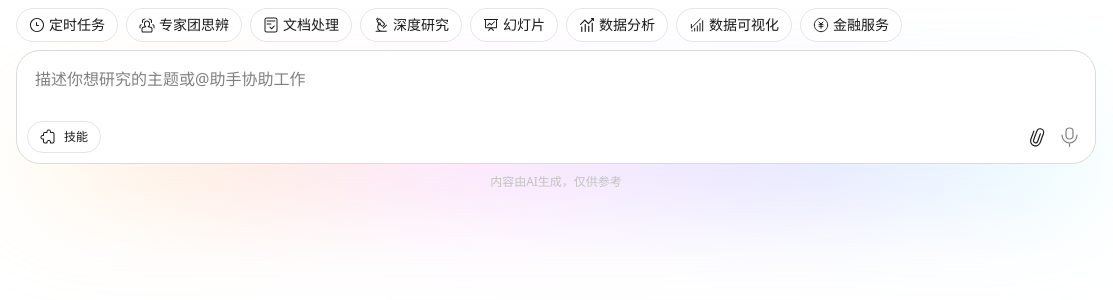
Test: ChatInput scheduled task quick action injection › undoes expert card autofill back to the quick-action capsule state
Step 1. Click the button "专家团思辨" → (184, 25), box top-left (126, 8), bottom-right (242, 42)
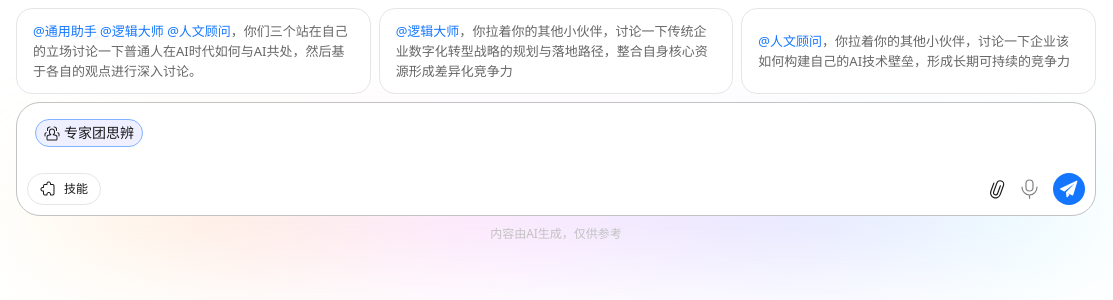
Check: the button that starts with "@通用助手" is shown
Step 2. Click the button that starts with "@通用助手" → (193, 51), box top-left (16, 8), bottom-right (371, 94)
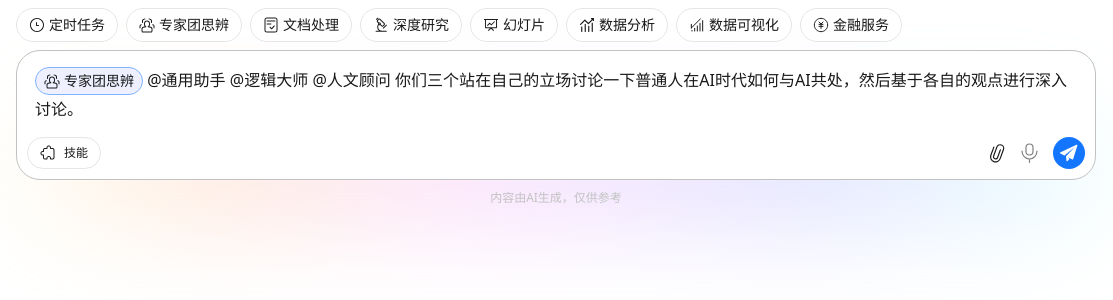
Check: the field shows "专家团思辨"
Check: the field shows "@通用助手"
Check: the field shows "@逻辑大师"
Step 3. Press z in the field, box top-left (17, 51), bottom-right (1095, 137)
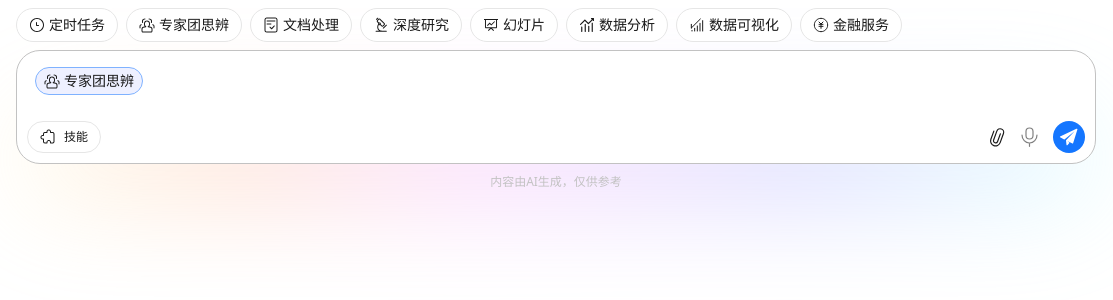
Check: the field no longer shows "@通用助手"
Check: the field no longer shows "@逻辑大师"
Check: the field no longer shows "@人文顾问"
